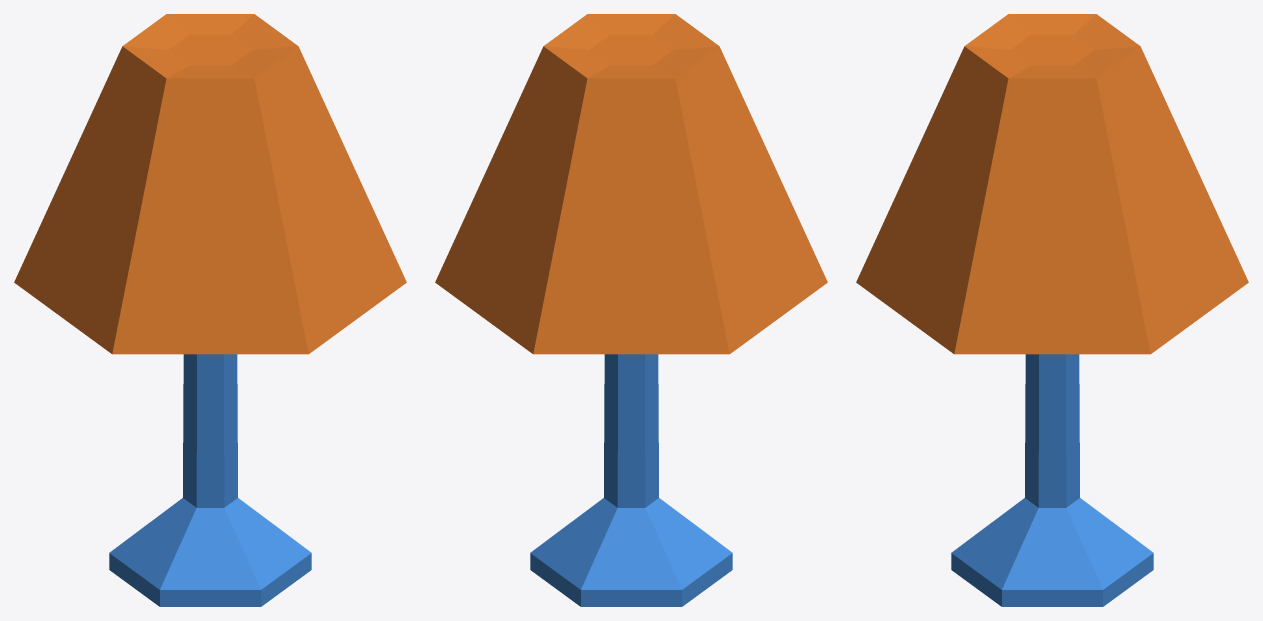
Rendered from SmallLamp.fbx.
3 views of the same model, side by side, from view 1: azimuth 30°, elevation 25°; view 2: azimuth 150°, elevation 25°; view 3: azimuth 270°, elevation 25° (orthographic).
Visible parts, largest first — view 1: SmallLamp; view 2: SmallLamp; view 3: SmallLamp.
Boxes of the visible parts, x1,y1,x2,y2 form: SmallLamp: [14, 14, 406, 606]; SmallLamp: [435, 14, 827, 606]; SmallLamp: [856, 14, 1248, 606].
Bounding box in the file's own units: 0.2692 × 0.3109 × 0.4572.
